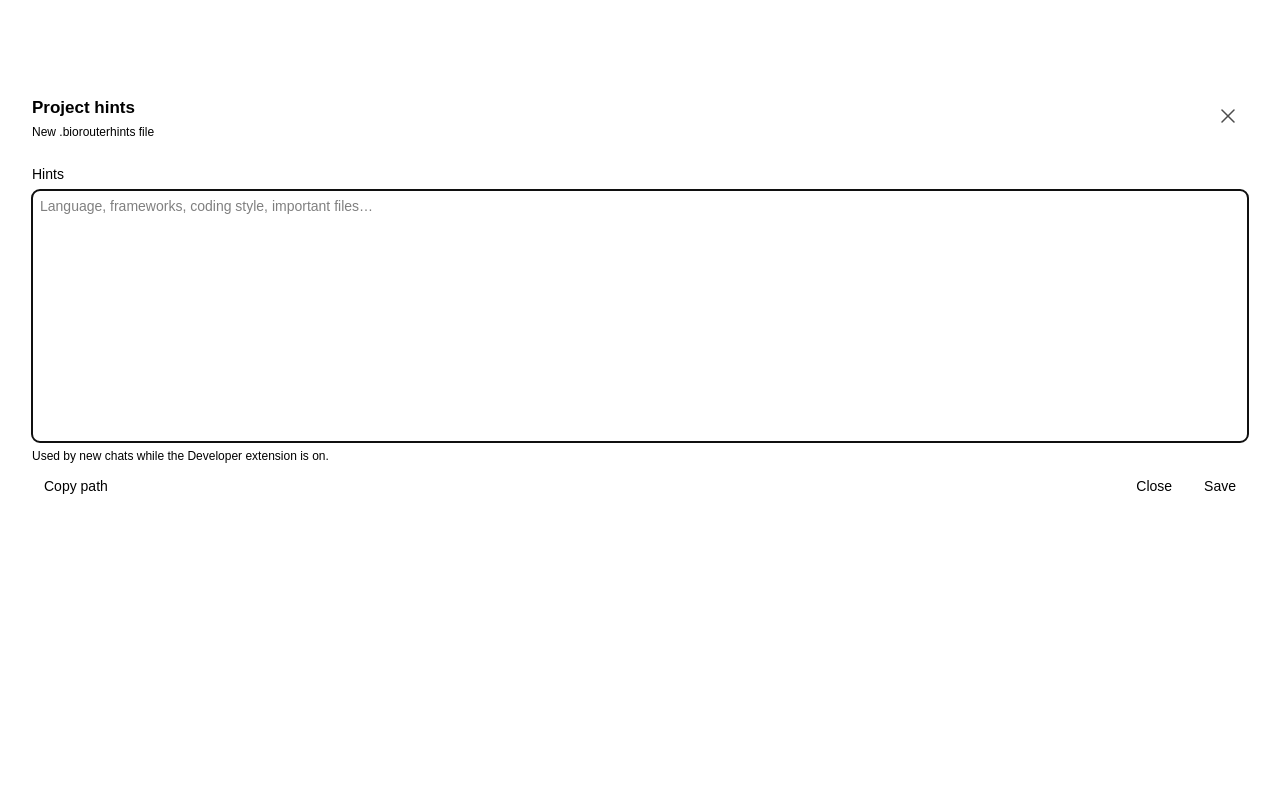
Project hints dialog › says so when the path cannot be copied
This screenshot has width=1280, height=800.
Expected: the dialog "Project hints" is shown, [16,80,1264,512]
What coordinates should you click on to do the following:
click the button "Copy path"
I would click on:
 (76, 486)
Its box is [32,476,120,496].
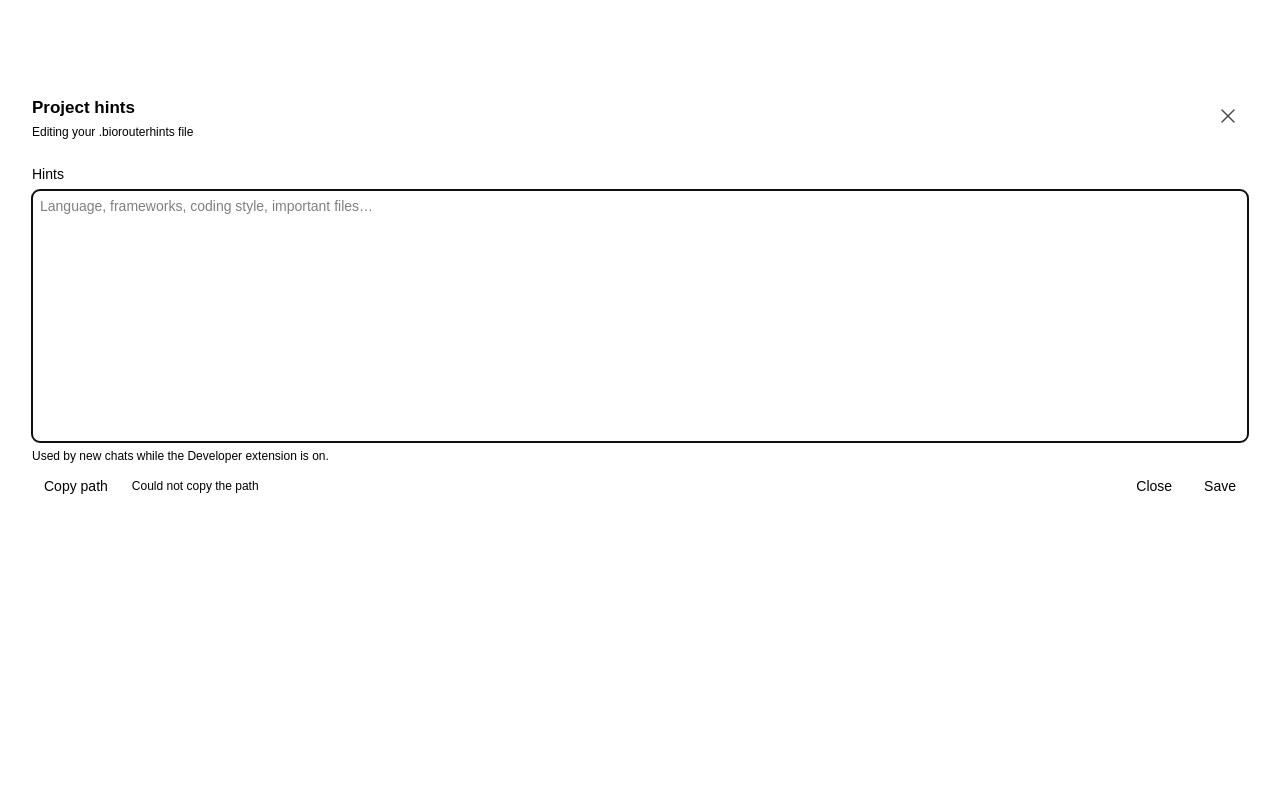
Expected: the message reads "Could not copy the path", [132,479,259,493]
